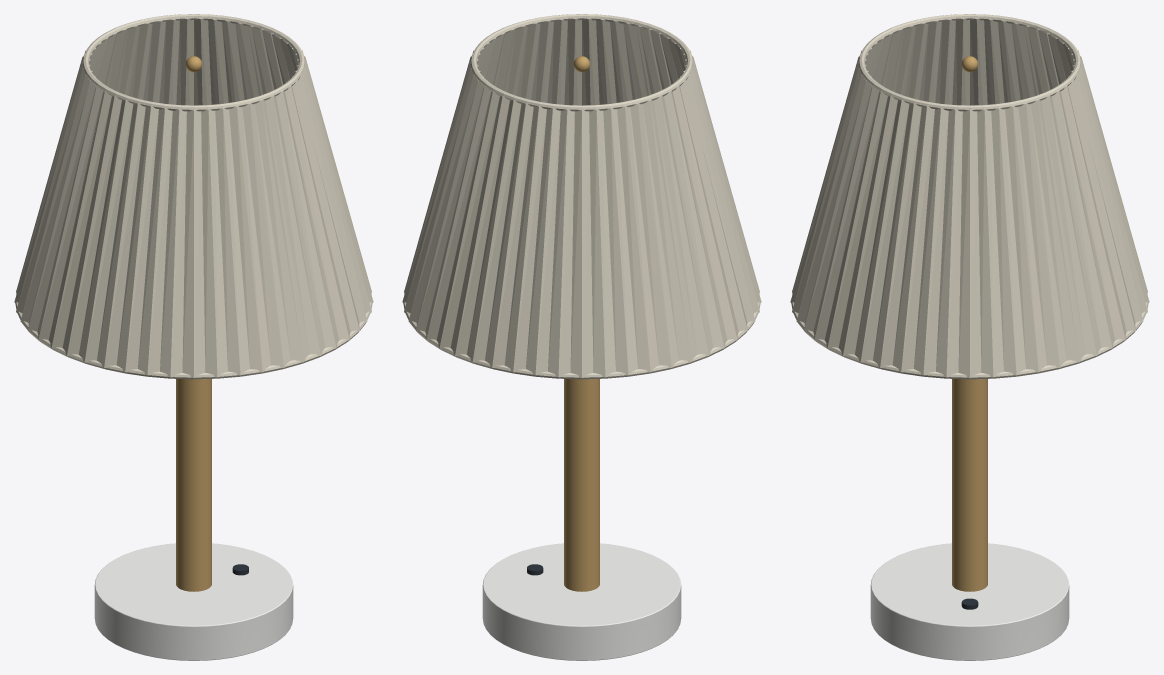
File: apartment-lamp-pleated.glb
3 views of the same model, side by side, from view 1: azimuth 30°, elevation 25°; view 2: azimuth 150°, elevation 25°; view 3: azimuth 270°, elevation 25° (orthographic).
Visible parts, largest first — view 1: catalog_surface_RealismUV; view 2: catalog_surface_RealismUV; view 3: catalog_surface_RealismUV.
Boxes of the visible parts, box(x1,y1,x2,y2) form: catalog_surface_RealismUV: box(14, 14, 373, 660); catalog_surface_RealismUV: box(402, 14, 761, 660); catalog_surface_RealismUV: box(790, 14, 1149, 660).
Bounding box in the file's own units: 0.22 × 0.38 × 0.22.
